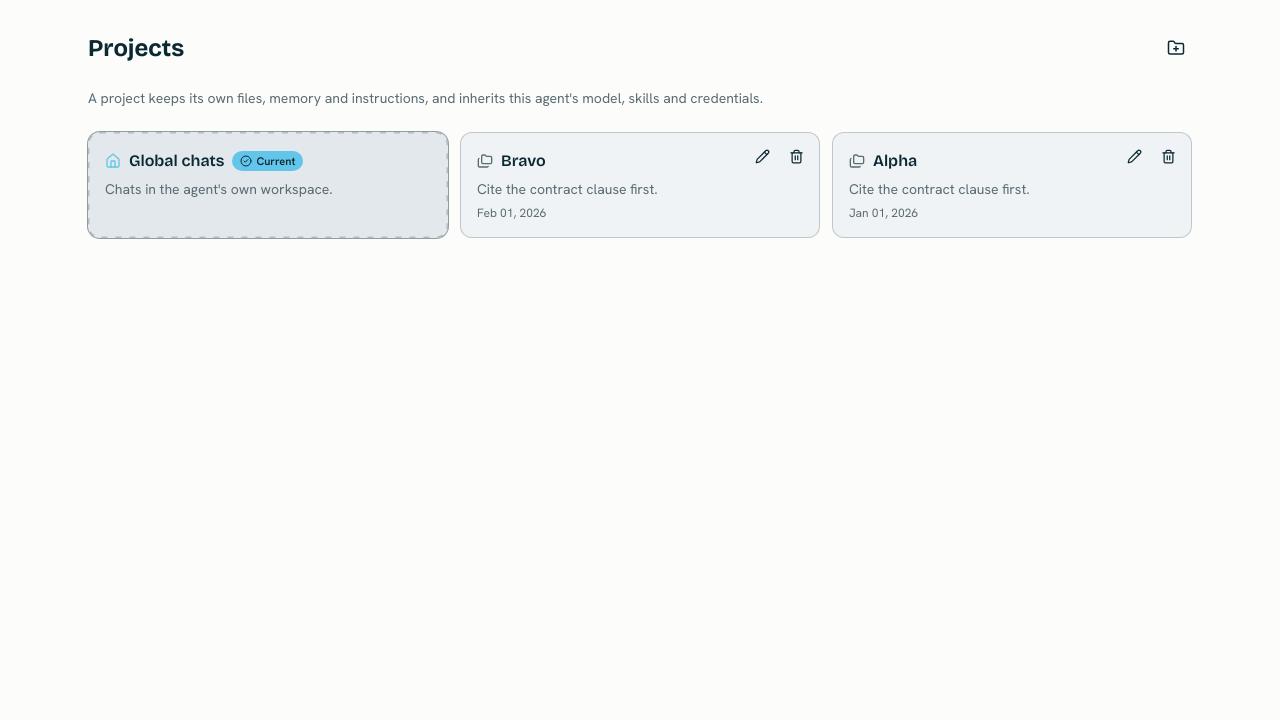
editing in place › opens the edit form over the project it edits, not at the top
Click the 2nd button named "Edit project": (1134, 156) [1118,140,1150,172]
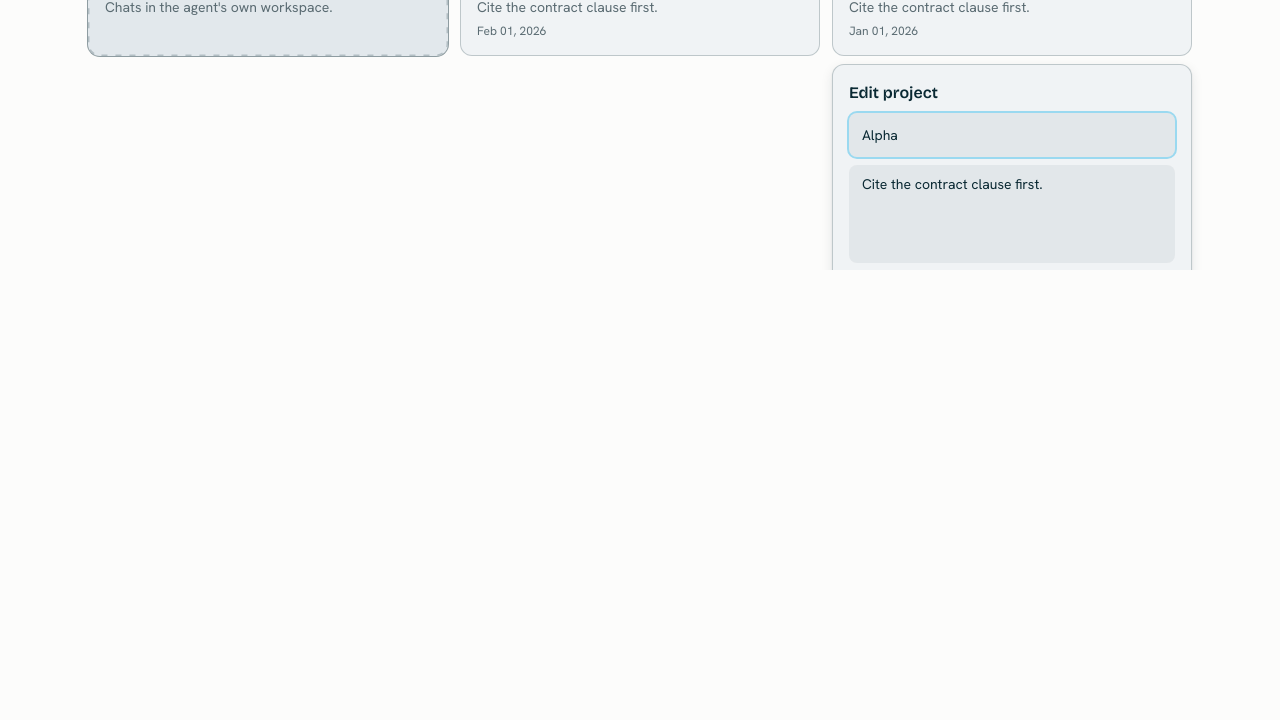
Check: the number of forms is 1, box [832,64,1192,270]
Check: the field named "Name" holds "Alpha", box [849,113,1175,157]
